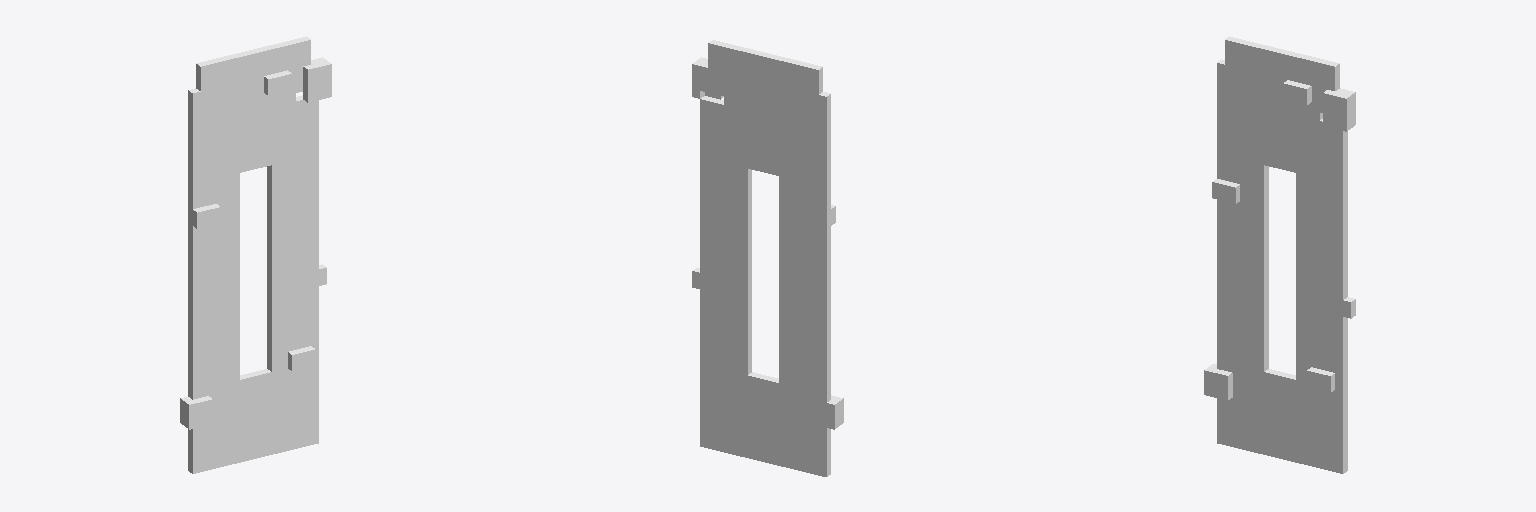
File: SmallBuilding04-1.obj
3 renders of one model, left to right at view 1: azimuth 30°, elevation 25°; view 2: azimuth 150°, elevation 25°; view 3: azimuth 330°, elevation 25°, orthographic.
Parts seen in each view (by area): view 1: object 1; view 2: object 1; view 3: object 1.
Boxes of the visible parts, x1=… form: object 1: x1=180, y1=36, x2=331, y2=473; object 1: x1=692, y1=40, x2=843, y2=476; object 1: x1=1204, y1=36, x2=1355, y2=473.
Size of the model in its own units: 1.8 by 4.9 by 0.2.